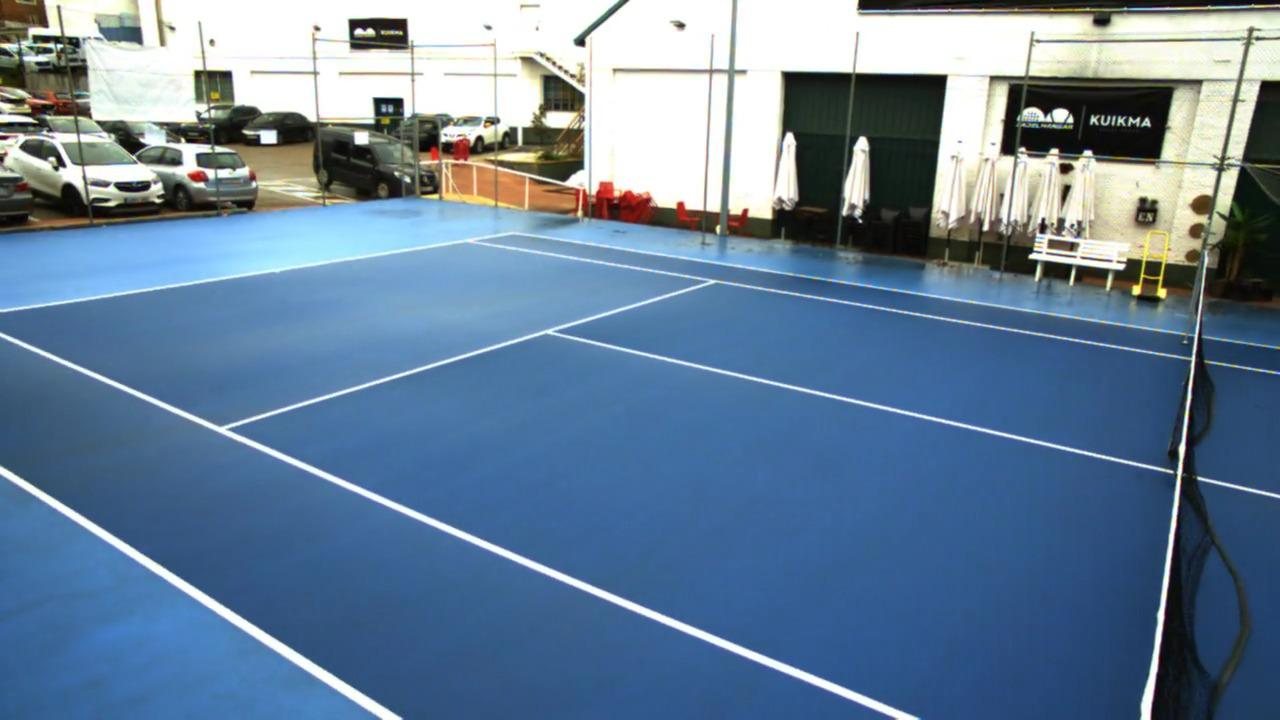cancha_tenis: (0, 240, 1280, 720)
point_f2: (459, 232, 484, 254)
point_fc1: (269, 264, 283, 280)
point_i1: (210, 416, 246, 442)
point_i2: (690, 270, 726, 291)
point_ic1: (534, 321, 563, 347)
